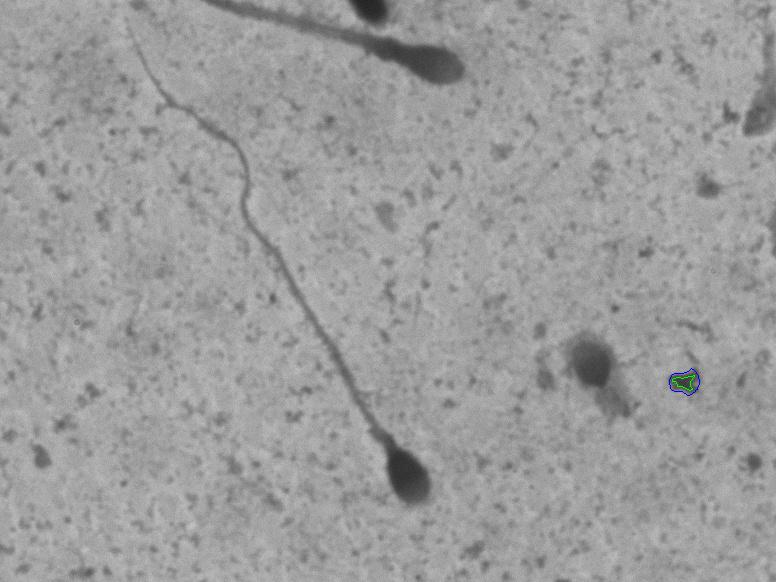Abnormal: (512, 312, 661, 467)
Normal: (110, 14, 462, 534)
